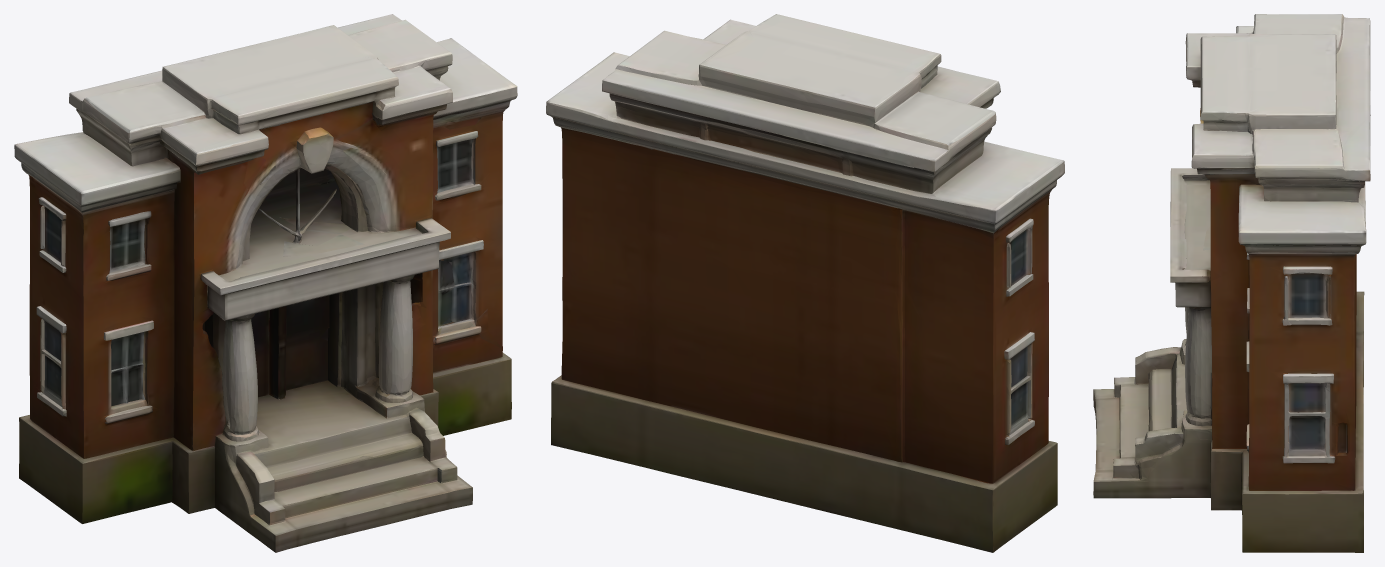
Rendered from front of building.glb.
3 views of the same model, side by side, from view 1: azimuth 30°, elevation 25°; view 2: azimuth 150°, elevation 25°; view 3: azimuth 270°, elevation 25° (orthographic). The views are drawn at different scales.
Visible parts, largest first — view 1: world; view 2: world; view 3: world.
Part boxes in pixels (box(x1,y1,x2,y2)): world: box(14, 14, 517, 552); world: box(546, 14, 1064, 552); world: box(1093, 14, 1370, 552).
Bounding box in the file's own units: 1 × 0.8566 × 0.5679.
Materials: 1 (1 with a texture image).
